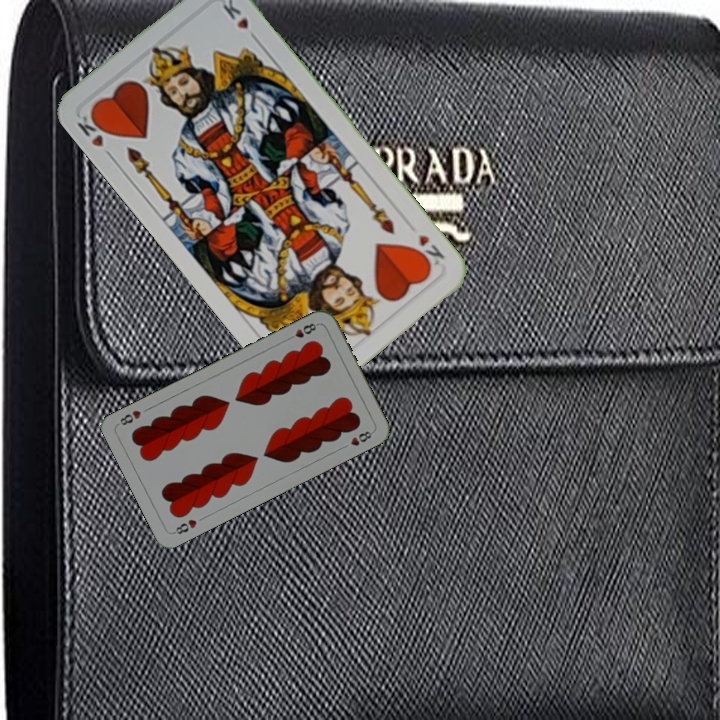H8: (283, 319, 321, 343), (169, 515, 200, 537)
HK: (73, 107, 113, 150), (409, 230, 448, 271)
